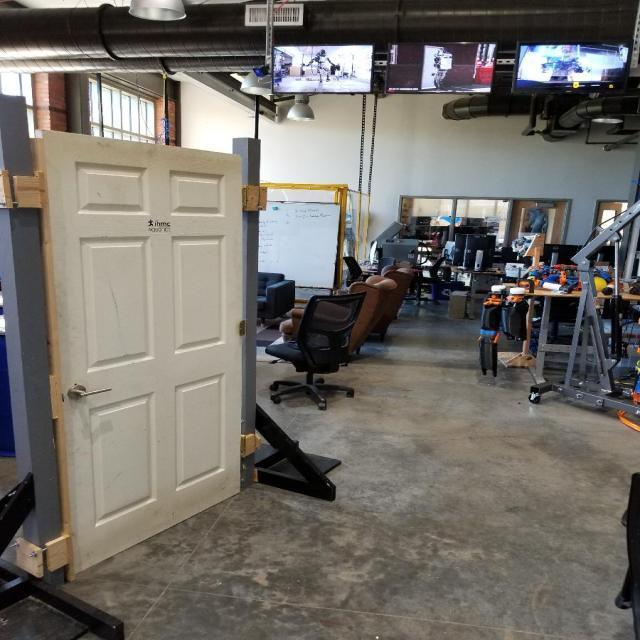door: (30, 125, 249, 575), (59, 381, 112, 402)
